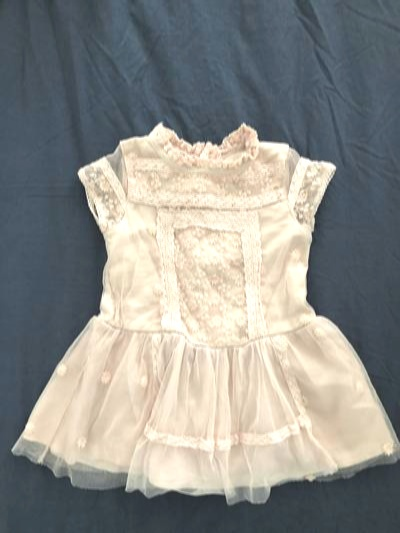Dress: (12, 115, 399, 508)
